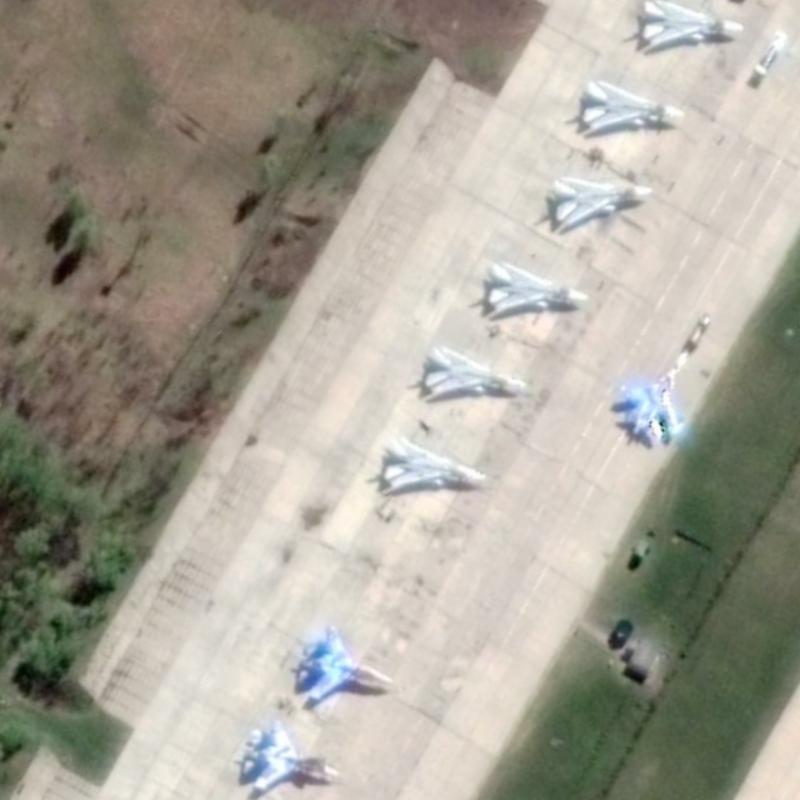A1: (297, 623, 396, 702), (240, 718, 342, 791), (616, 347, 691, 440)
A20: (580, 78, 688, 134), (422, 344, 532, 397), (487, 260, 591, 315), (551, 174, 655, 227), (381, 438, 488, 489), (640, 1, 745, 50)
